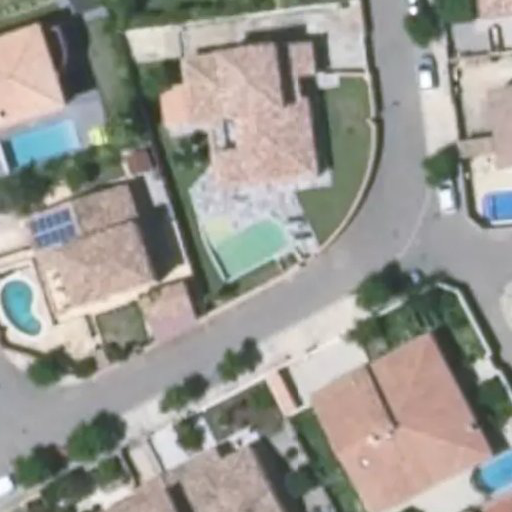pool: (211, 226, 300, 241)
